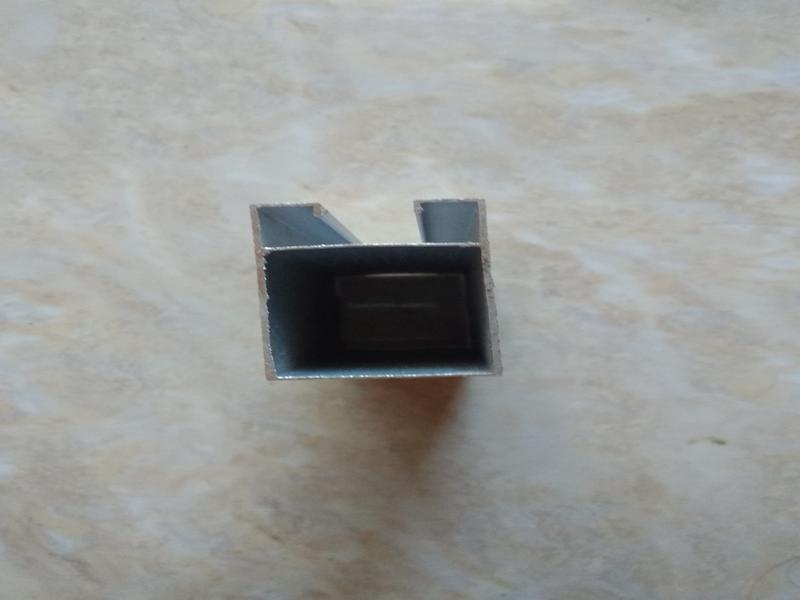Aluminium_1: (233, 183, 534, 403)
